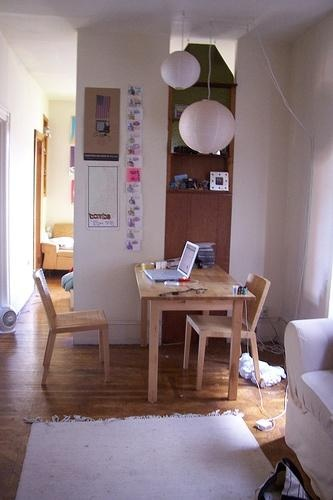chair: (183, 274, 272, 391), (34, 269, 112, 387)
diningtable: (135, 263, 256, 403)
sofa: (284, 316, 333, 500), (41, 224, 75, 277)
